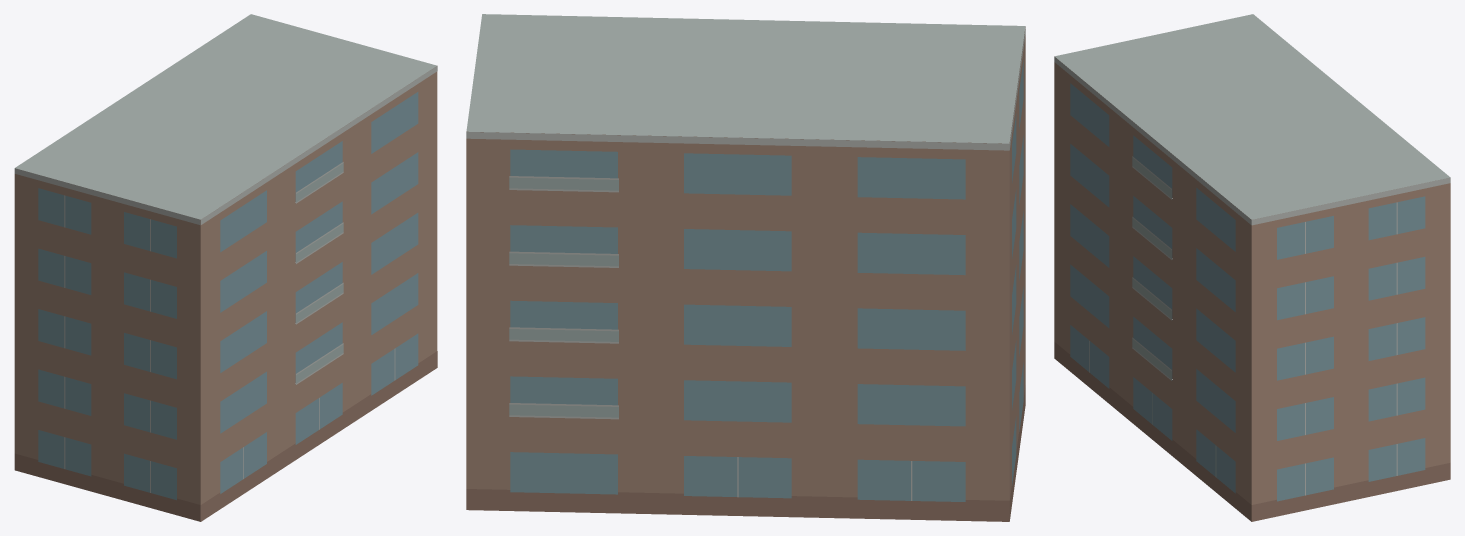
Rendered from survey-upis-32836997.glb.
3 renders of one model, left to right at view 1: azimuth 30°, elevation 25°; view 2: azimuth 150°, elevation 25°; view 3: azimuth 270°, elevation 25°, orthographic. The views are drawn at different scales.
Visible parts, largest first — view 1: survey-upis-32836997.tmp; view 2: survey-upis-32836997.tmp; view 3: survey-upis-32836997.tmp.
Part boxes in pixels (box(x1,y1,x2,y2)): survey-upis-32836997.tmp: box(14, 14, 437, 521); survey-upis-32836997.tmp: box(466, 14, 1025, 521); survey-upis-32836997.tmp: box(1054, 14, 1450, 521).
Size of the model in its own units: 19.3 by 13.2 by 15.71.
